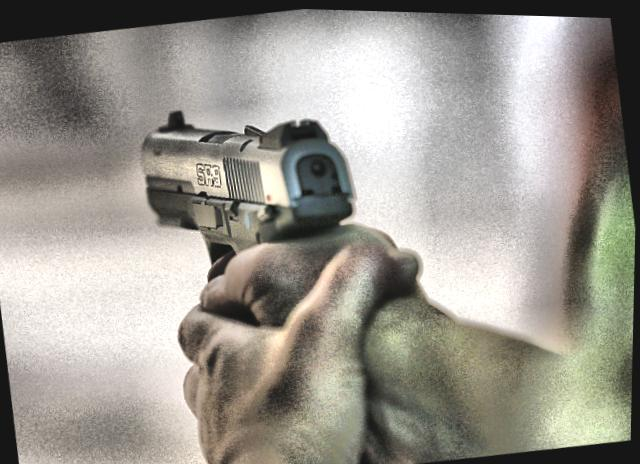pistol: (121, 75, 383, 364)
